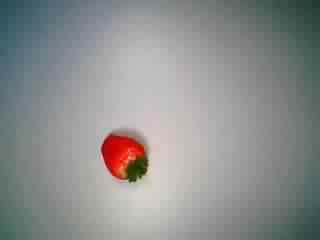strawberry: (85, 124, 158, 188)
